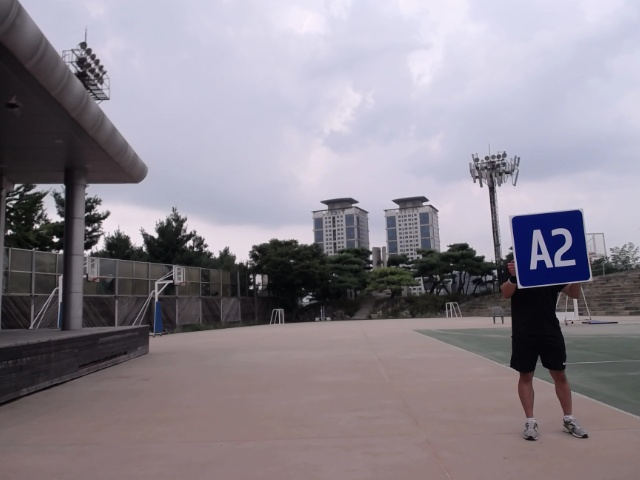delivery_a2: (511, 208, 592, 288)
